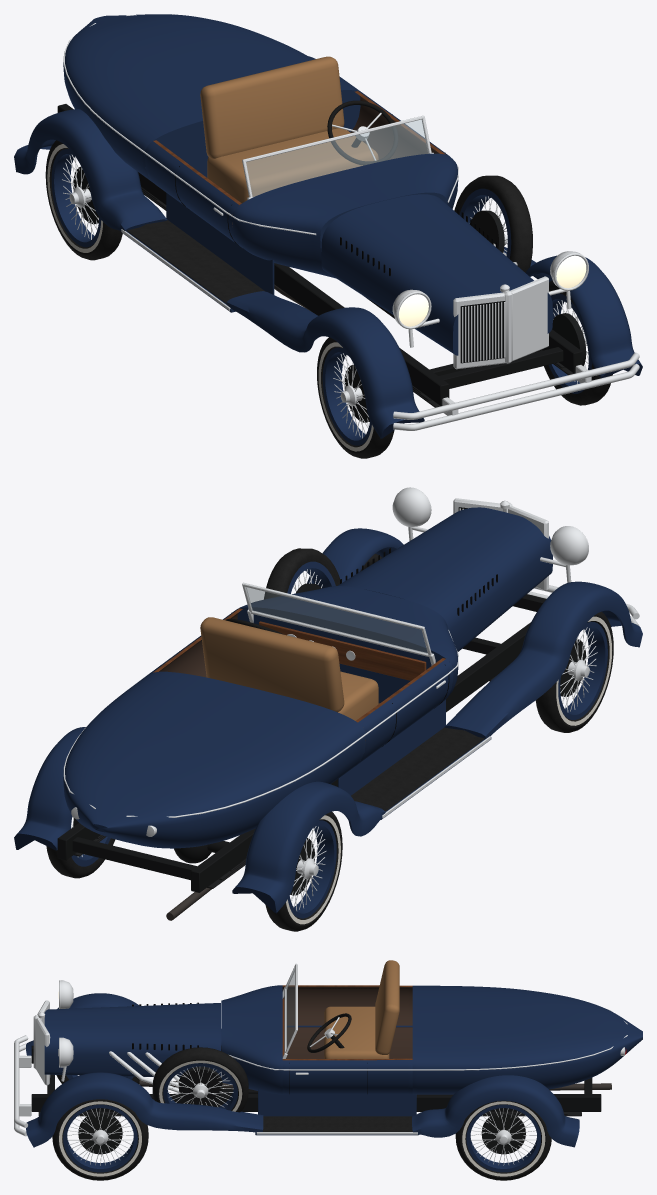
Rendered from boattail-speedster.glb.
3 views of the same model, one above another, from view 1: azimuth 30°, elevation 25°; view 2: azimuth 150°, elevation 25°; view 3: azimuth 270°, elevation 25° (orthographic). The views are drawn at different scales.
Visible parts, largest first — view 1: Boattail_Speedster, Wheel_RR, Wheel_FR, Wheel_FL; view 2: Boattail_Speedster, Wheel_FR, Wheel_RR, Wheel_RL; view 3: Boattail_Speedster, Wheel_FL, Wheel_RL.
Boxes of the visible parts, <box> form: Boattail_Speedster: <box>14,14,642,438</box>; Wheel_RR: <box>45,140,122,260</box>; Wheel_FR: <box>317,337,394,458</box>; Wheel_FL: <box>544,280,612,405</box>; Boattail_Speedster: <box>14,487,642,920</box>; Wheel_FR: <box>535,611,613,732</box>; Wheel_RR: <box>265,811,342,931</box>; Wheel_RL: <box>46,816,115,878</box>; Boattail_Speedster: <box>14,960,642,1147</box>; Wheel_FL: <box>52,1099,148,1180</box>; Wheel_RL: <box>455,1100,551,1180</box>.
Size of the model in its own units: 1.73 by 1.33 by 4.83.
Materials: 20 (3 with a texture image).
